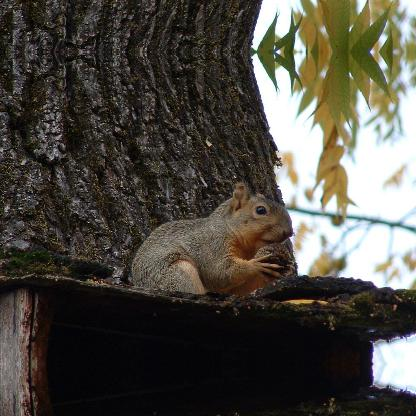Squirrel: (126, 176, 302, 304)
